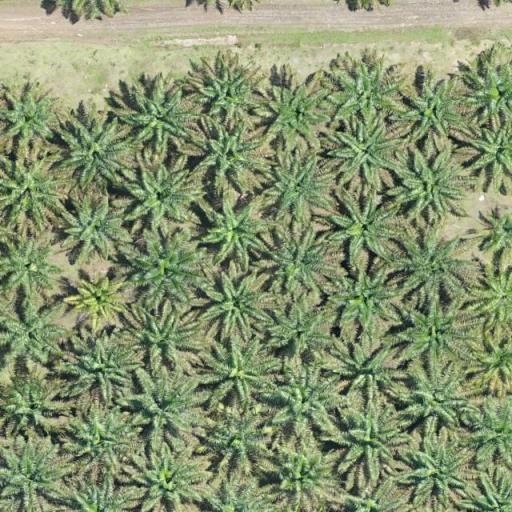Ganoderma: (78, 280, 116, 318)
